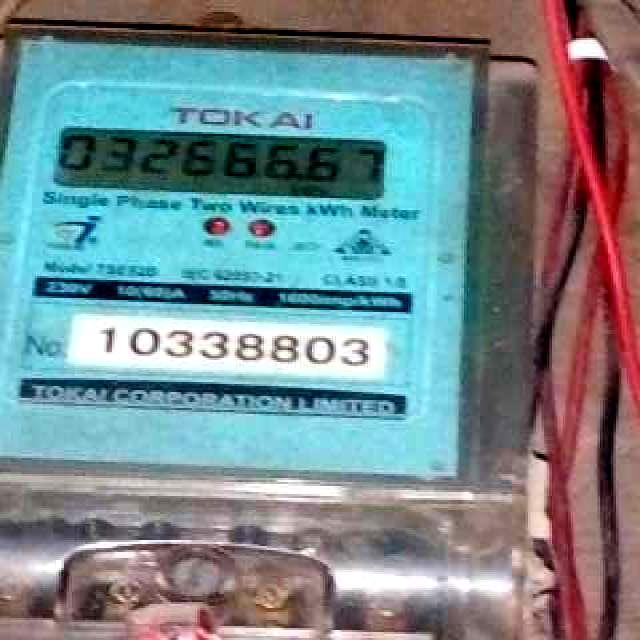LCD: (46, 119, 416, 213)
